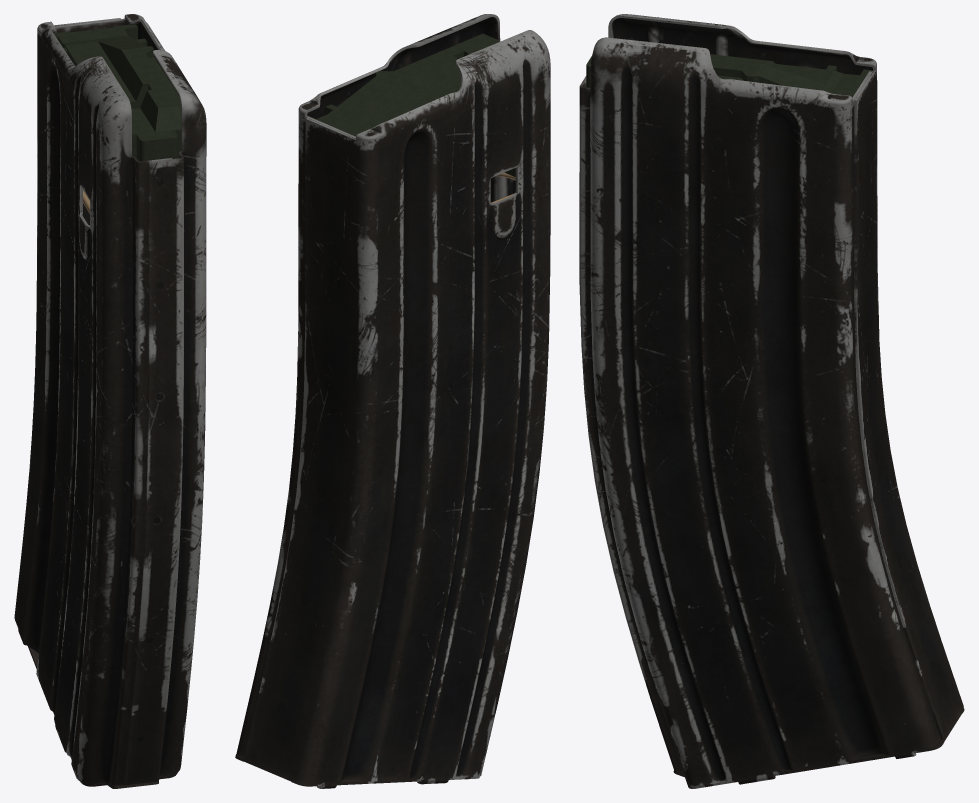
The model's file is ar-15_usgi_magazine.glb.
3 views of the same model, side by side, from view 1: azimuth 30°, elevation 25°; view 2: azimuth 150°, elevation 25°; view 3: azimuth 270°, elevation 25° (orthographic). The views are drawn at different scales.
Parts seen in each view (by area): view 1: caseL_low_1, caseR_low_0, follower_low_3, plate_low_2; view 2: caseL_low_1, caseR_low_0, follower_low_3; view 3: caseR_low_0, caseL_low_1, follower_low_3, plate_low_2.
Part boxes in pixels (box(x1,y1,x2,y2)): caseL_low_1: box(14, 18, 172, 785); caseR_low_0: box(55, 14, 206, 785); follower_low_3: box(54, 24, 181, 161); plate_low_2: box(28, 646, 177, 788); caseL_low_1: box(243, 30, 550, 788); caseR_low_0: box(236, 14, 515, 757); follower_low_3: box(307, 33, 515, 176); caseR_low_0: box(579, 37, 940, 786); caseL_low_1: box(584, 14, 963, 741); follower_low_3: box(586, 54, 872, 97); plate_low_2: box(673, 707, 964, 788).
Bounding box in the file's own units: 4.42 × 18.4 × 8.75.
1 material, 1 textured.
